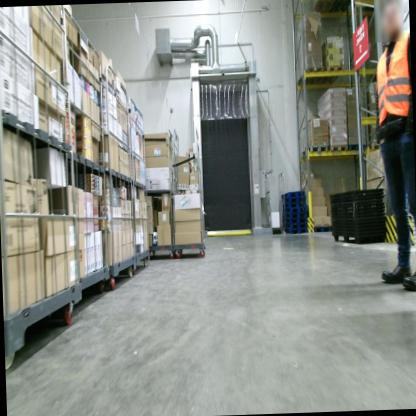pallet: (292, 63, 326, 90), (318, 63, 345, 88), (313, 0, 336, 18), (328, 0, 355, 15), (280, 187, 307, 201), (298, 146, 329, 158), (279, 192, 308, 204), (328, 143, 347, 156), (280, 211, 309, 219), (281, 201, 309, 209), (281, 206, 308, 214), (280, 216, 307, 224), (283, 227, 310, 235), (313, 224, 333, 234), (284, 222, 308, 230), (356, 0, 384, 3)
